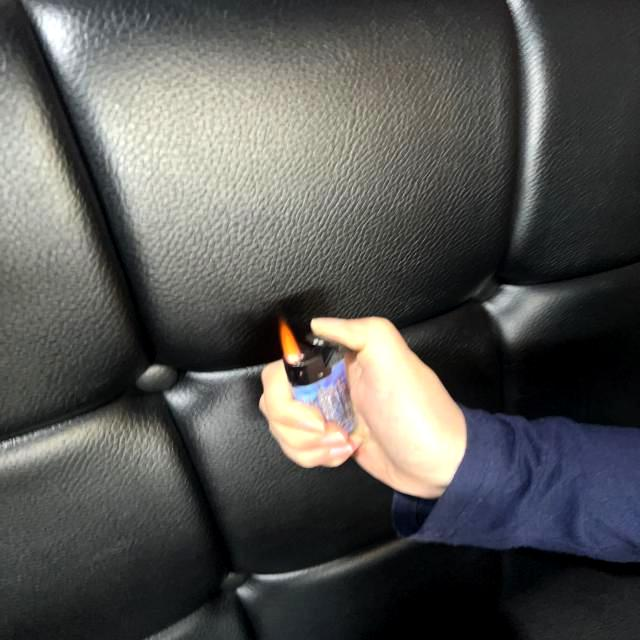fire: (278, 318, 302, 367)
